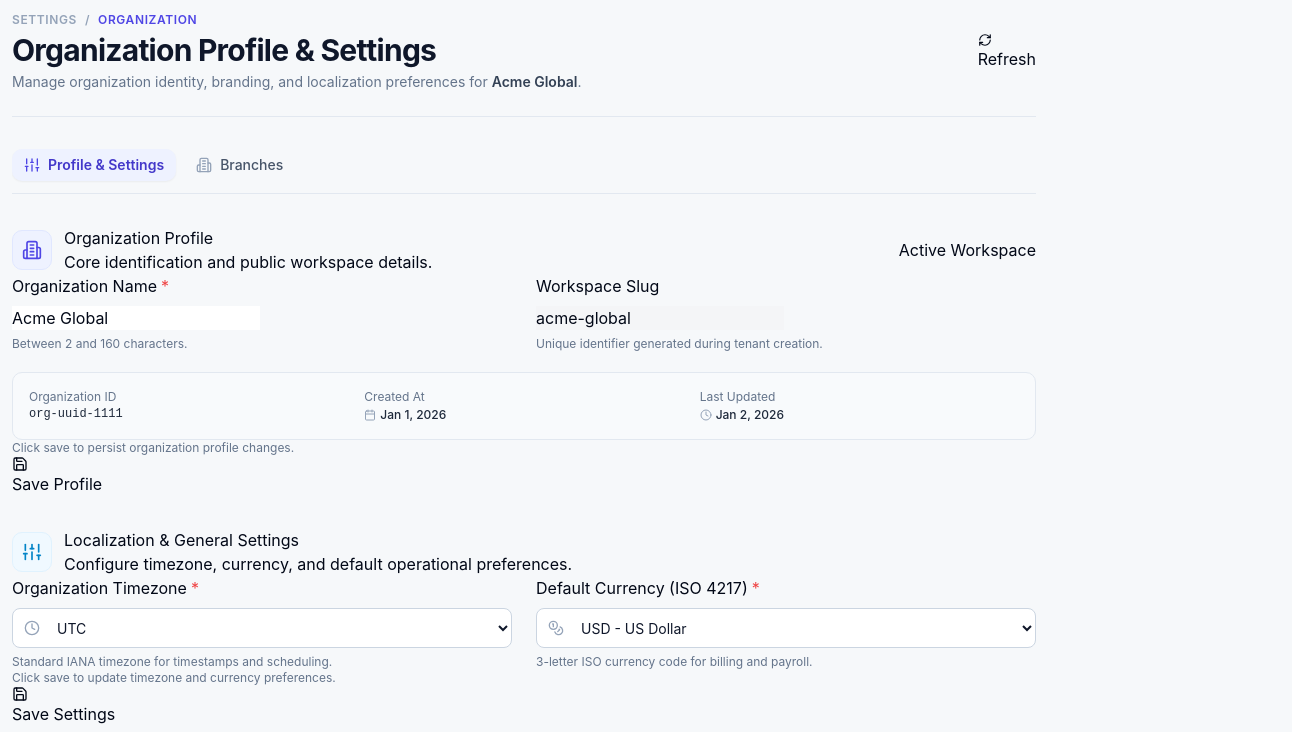
OrganizationSettingsPage Component › updates organization settings successfully on submit
Select "America/New_York" in the dropdown labelled "Organization Timezone*" at (262, 628), box 12,608 -> 512,648
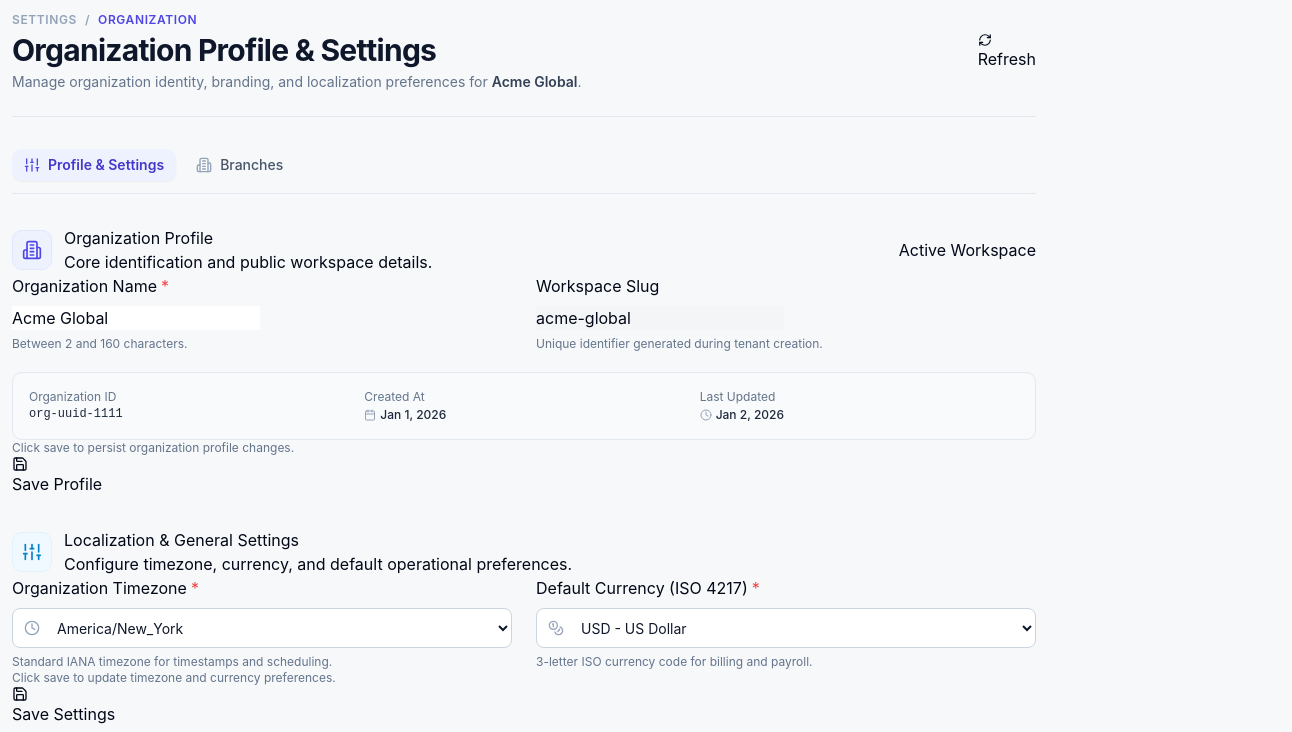
Select "EUR - Euro" in the dropdown labelled "Default Currency (ISO 4217)*" at (786, 628), box 536,608 -> 1036,648
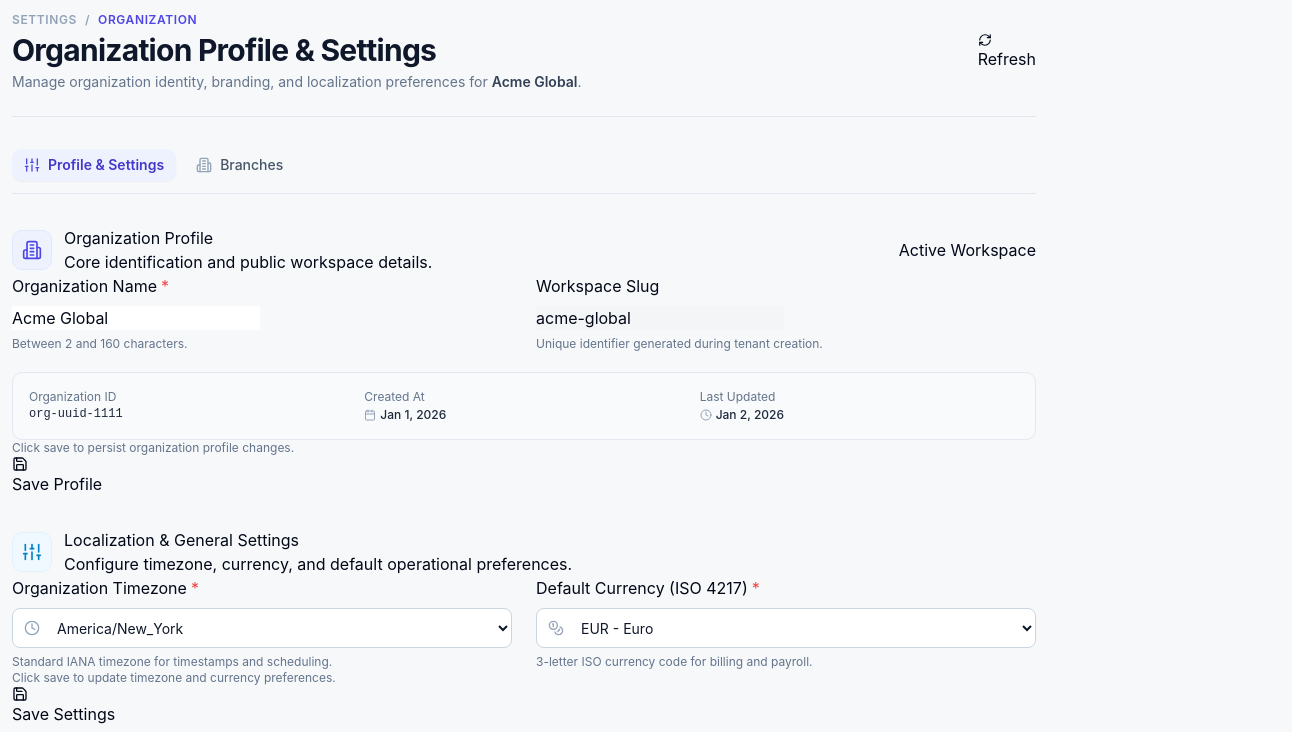
Click the button "Save Settings" at (64, 706), box 12,686 -> 115,726
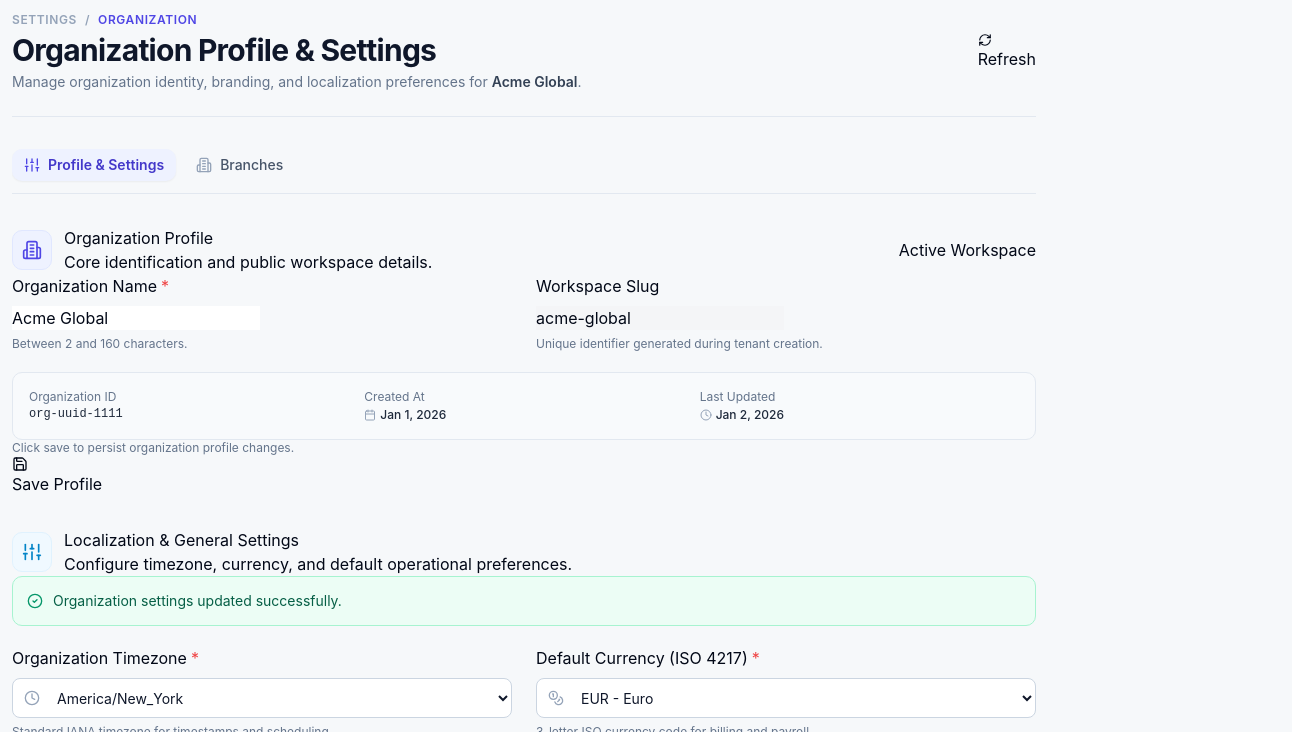
Expected: the text "org-uuid-1111" is shown, 29,407 -> 123,421
Expected: the text "Organization settings updated successfully." is shown, 53,591 -> 342,611
